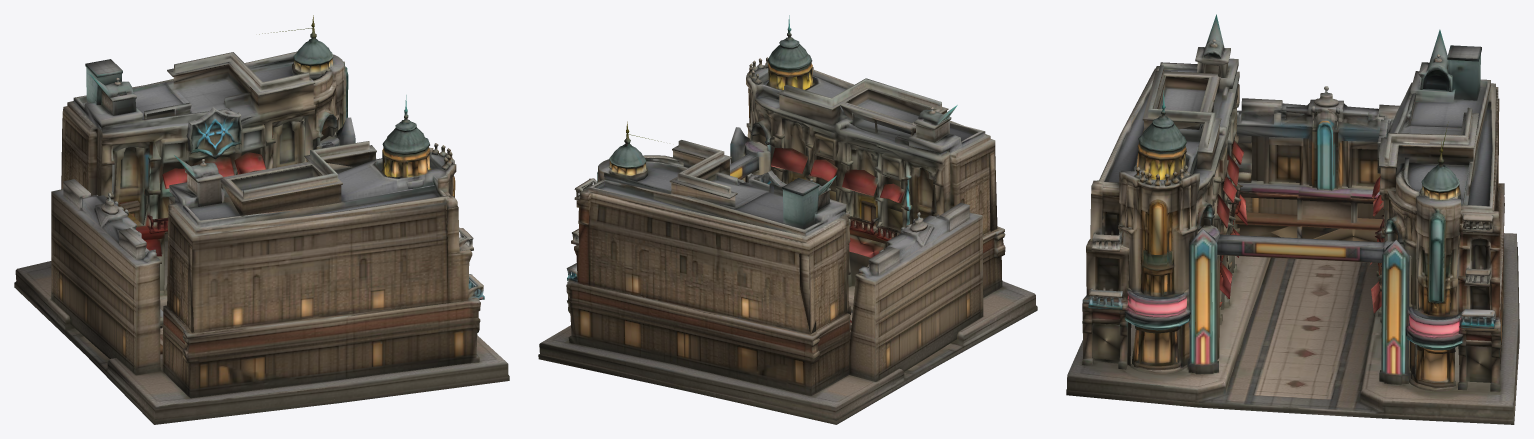
File: nanjing-road-gateway.glb
3 renders of one model, left to right at view 1: azimuth 30°, elevation 25°; view 2: azimuth 150°, elevation 25°; view 3: azimuth 270°, elevation 25°, orthographic. The views are drawn at different scales.
Visible parts, largest first — view 1: tripo_node_9b27380d-38ad-4c4b-b3c8-7b6fe37955ef; view 2: tripo_node_9b27380d-38ad-4c4b-b3c8-7b6fe37955ef; view 3: tripo_node_9b27380d-38ad-4c4b-b3c8-7b6fe37955ef.
Boxes of the visible parts, <box> form: tripo_node_9b27380d-38ad-4c4b-b3c8-7b6fe37955ef: <box>14,15,509,424</box>; tripo_node_9b27380d-38ad-4c4b-b3c8-7b6fe37955ef: <box>538,15,1037,424</box>; tripo_node_9b27380d-38ad-4c4b-b3c8-7b6fe37955ef: <box>1066,14,1519,424</box>.
Size of the model in its own units: 0.8312 by 0.6 by 0.8682.
1 material, 1 textured.
